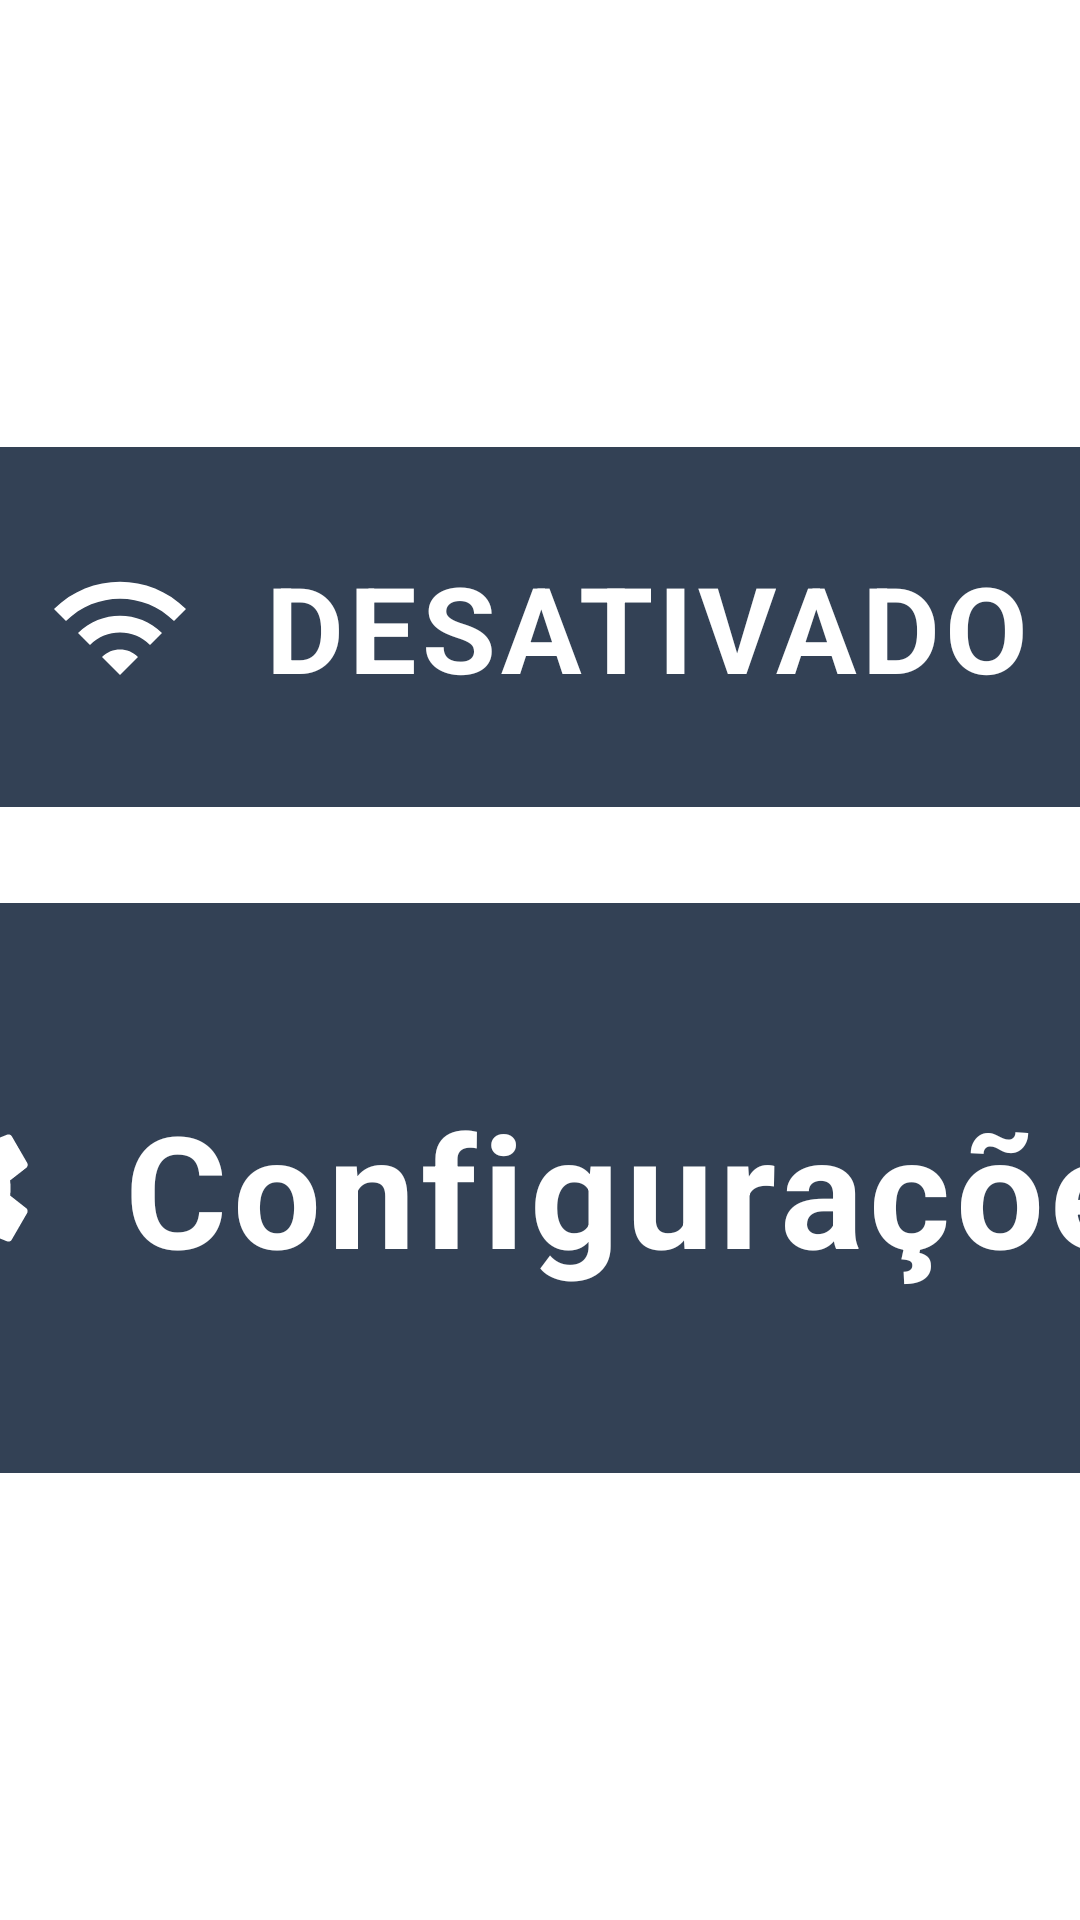

Where icons sit on this 1080x1920 app screen, as Rect(x1, y1, x2, y2):
wifi: Rect(54, 581, 186, 675)
